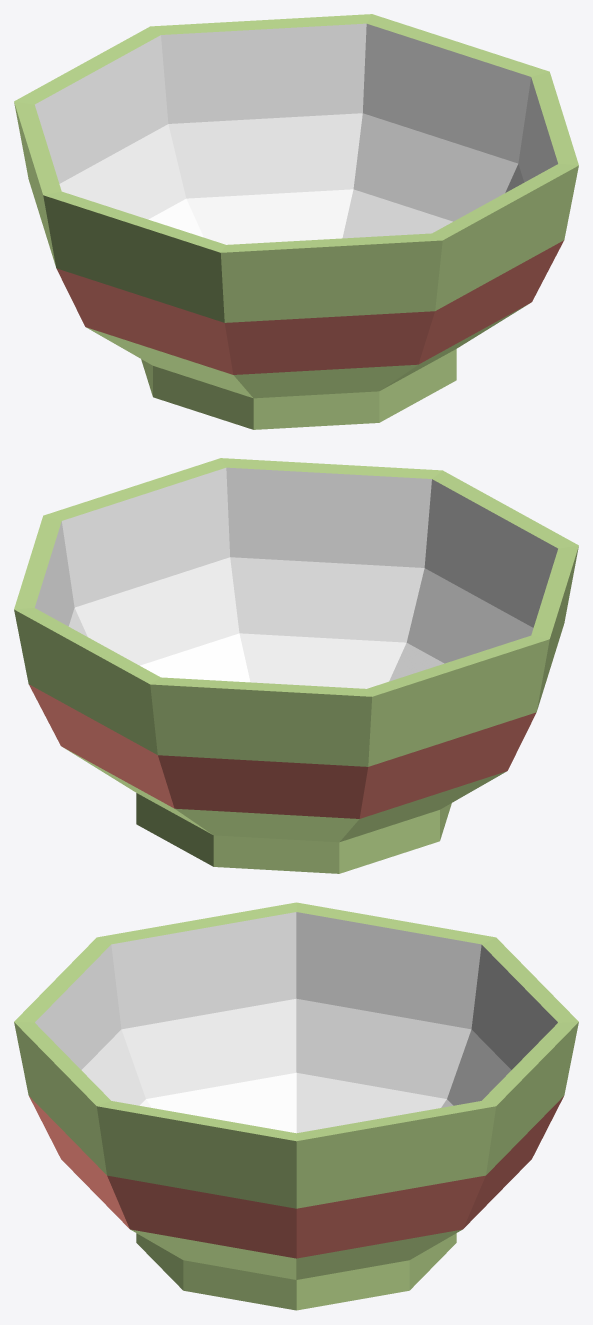
The model's file is Bowl_01.gltf.
3 views of the same model, one above another, from view 1: azimuth 30°, elevation 25°; view 2: azimuth 150°, elevation 25°; view 3: azimuth 270°, elevation 25° (orthographic). The views are drawn at different scales.
Visible parts, largest first — view 1: Circle.006; view 2: Circle.006; view 3: Circle.006.
Boxes of the visible parts, <box> form: Circle.006: <box>14,14,578,429</box>; Circle.006: <box>14,458,578,873</box>; Circle.006: <box>14,902,578,1310</box>.
Size of the model in its own units: 9.99 by 4.31 by 9.99.
